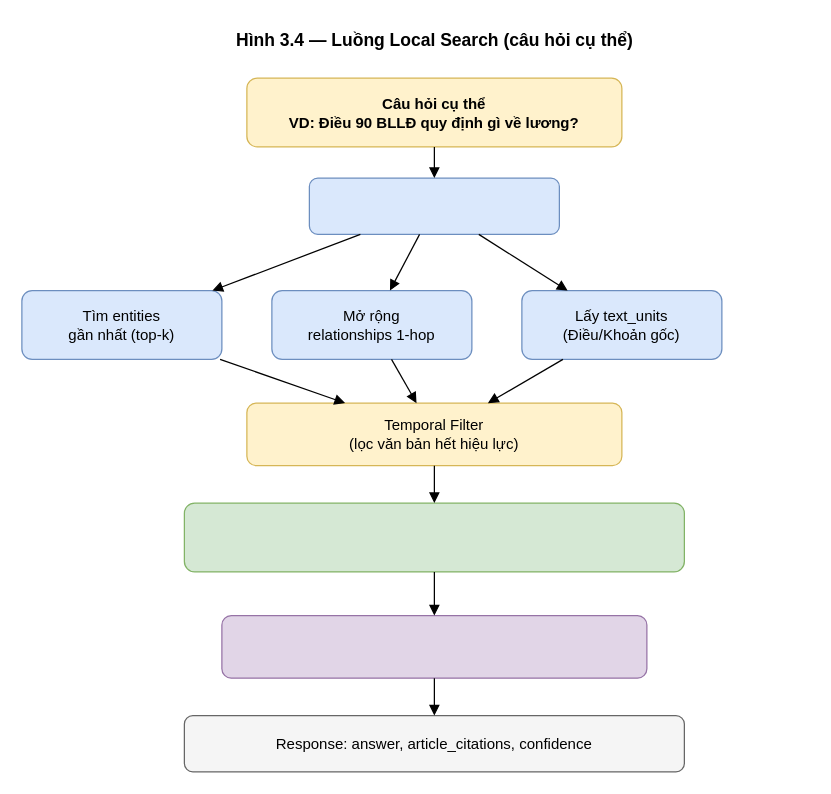
Some shapes in this 831 by 794 pixel diagram are drawn without their labels. The centre of each missing label's shape, as x and y in pixels:
"Context Assembly (entities + relations + text + community hints)" belongs at [433,537].
"Embedding câu hỏi" belongs at [433,205].
"LLM sinh câu trả lời + trích dẫn" belongs at [434,646].
